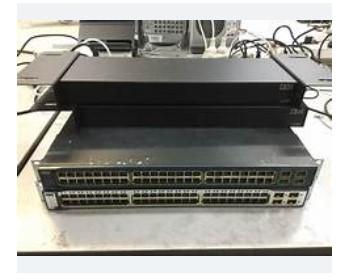NetworkSwitch: (38, 56, 326, 211)
